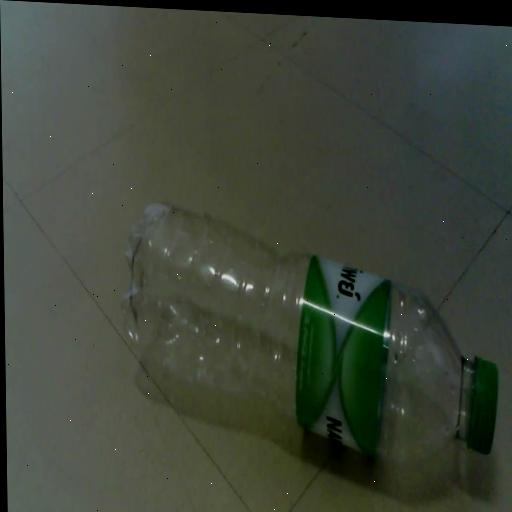bottle: (93, 165, 512, 512)
